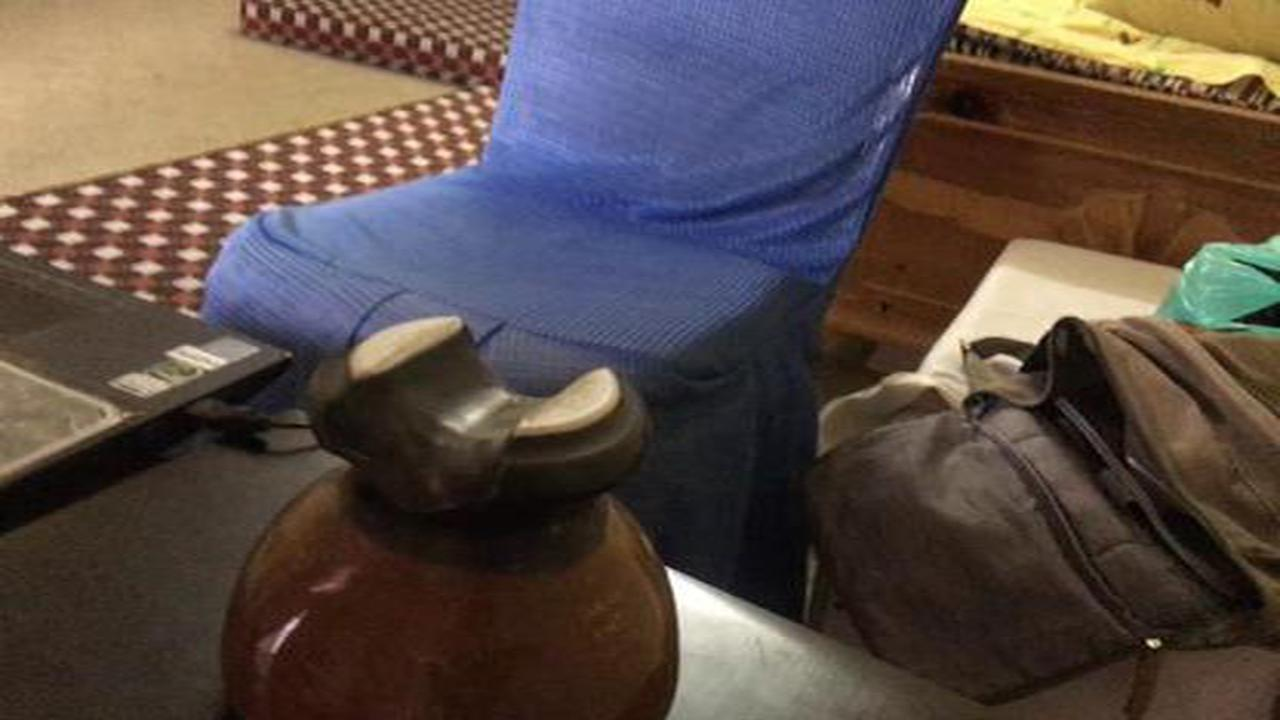insulator_pin: (210, 296, 696, 720)
